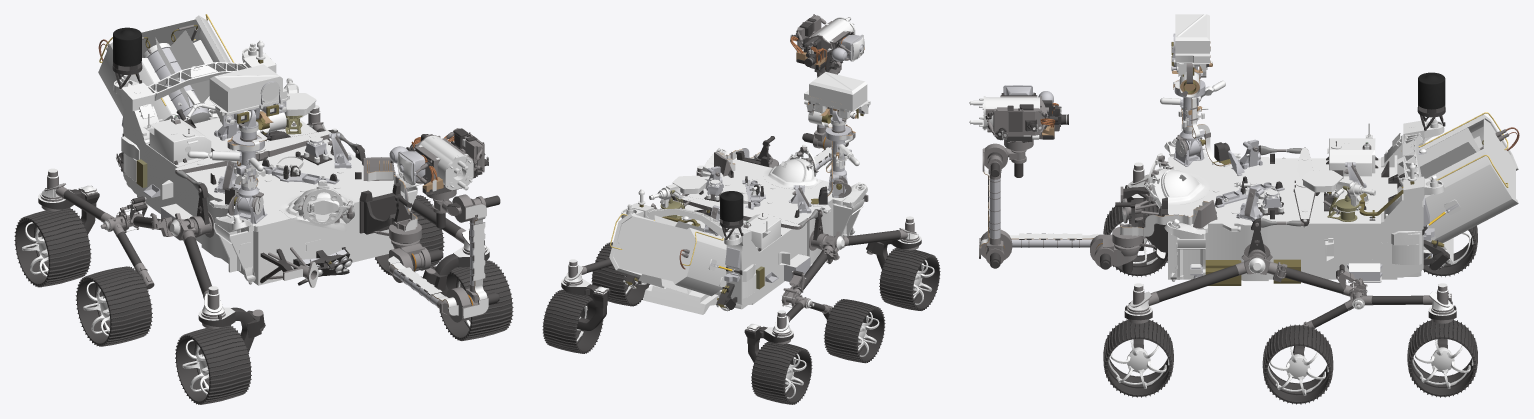
File: scene-draco-lite.gltf
3 renders of one model, left to right at view 1: azimuth 30°, elevation 25°; view 2: azimuth 150°, elevation 25°; view 3: azimuth 270°, elevation 25°, orthographic. The views are drawn at different scales.
Parts seen in each view (by area): view 1: Wheels_objs_8, Body_0, suspension_9, rtg_28, Body_Parts_60, head_46, turret_obj_22, arm_24, lab_27, arm.001_10, box_64, antenna_uhf_29 (+12 smaller); view 2: Wheels_objs_8, Body_0, suspension_9, rtg_28, Body_Parts_60, head_46, turret_obj_22, lab_27, RIMFAX_35, antenna_hg_30, antenna_uhf_29, box_64 (+7 smaller); view 3: Body_0, Wheels_objs_8, rtg_28, suspension_9, Body_Parts_60, head_46, arm_24, turret_obj_22, lab_27, antenna_hg_30, box_64, antenna_uhf_29 (+7 smaller).
Boxes of the visible parts, x1,y1,x2,y2 form: Wheels_objs_8: (14, 195, 513, 404); Body_0: (113, 48, 421, 285); suspension_9: (38, 105, 489, 352); rtg_28: (98, 14, 234, 136); Body_Parts_60: (119, 43, 410, 272); head_46: (208, 64, 289, 132); turret_obj_22: (389, 128, 484, 195); arm_24: (446, 194, 500, 322); lab_27: (278, 179, 358, 231); arm.001_10: (359, 182, 421, 243); box_64: (144, 113, 214, 164); antenna_uhf_29: (112, 27, 142, 89); Wheels_objs_8: (542, 242, 940, 404); Body_0: (621, 149, 867, 305); suspension_9: (561, 165, 921, 362); rtg_28: (609, 213, 742, 296); Body_Parts_60: (626, 148, 864, 309); head_46: (803, 72, 870, 125); turret_obj_22: (790, 15, 864, 71); lab_27: (763, 144, 823, 189); RIMFAX_35: (643, 285, 718, 314); antenna_hg_30: (649, 175, 707, 218); antenna_uhf_29: (720, 191, 743, 239); box_64: (740, 213, 781, 251); Body_0: (1164, 121, 1444, 281); Wheels_objs_8: (1103, 202, 1477, 404); rtg_28: (1388, 112, 1519, 242); suspension_9: (1124, 145, 1456, 356); Body_Parts_60: (1169, 117, 1445, 285); head_46: (1172, 14, 1212, 97); arm_24: (979, 143, 1012, 268); turret_obj_22: (969, 91, 1068, 142); lab_27: (1144, 153, 1209, 208); antenna_hg_30: (1302, 170, 1375, 221); box_64: (1326, 123, 1378, 178); antenna_uhf_29: (1417, 72, 1445, 130).
Bounding box in the file's own units: 2.71 × 2.23 × 4.09.
